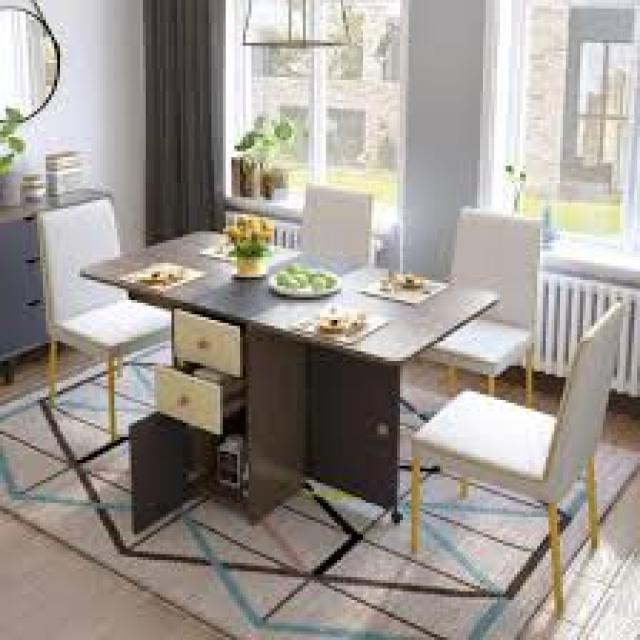table: (79, 214, 505, 378)
